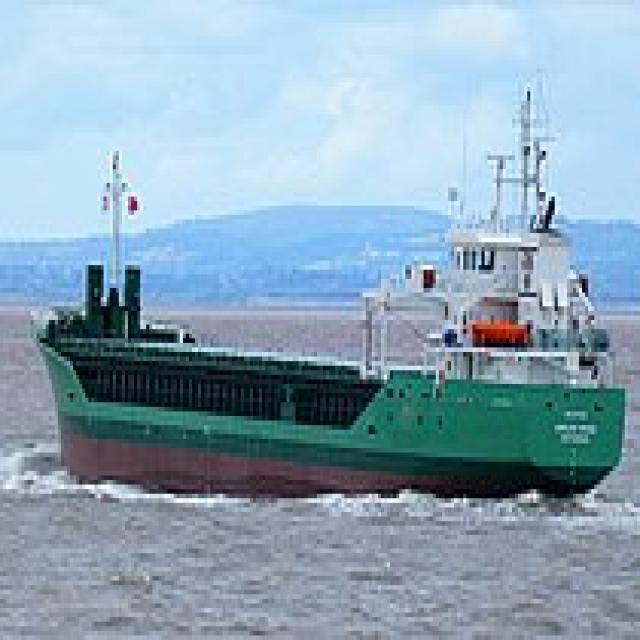Cargo: (24, 64, 625, 498)
